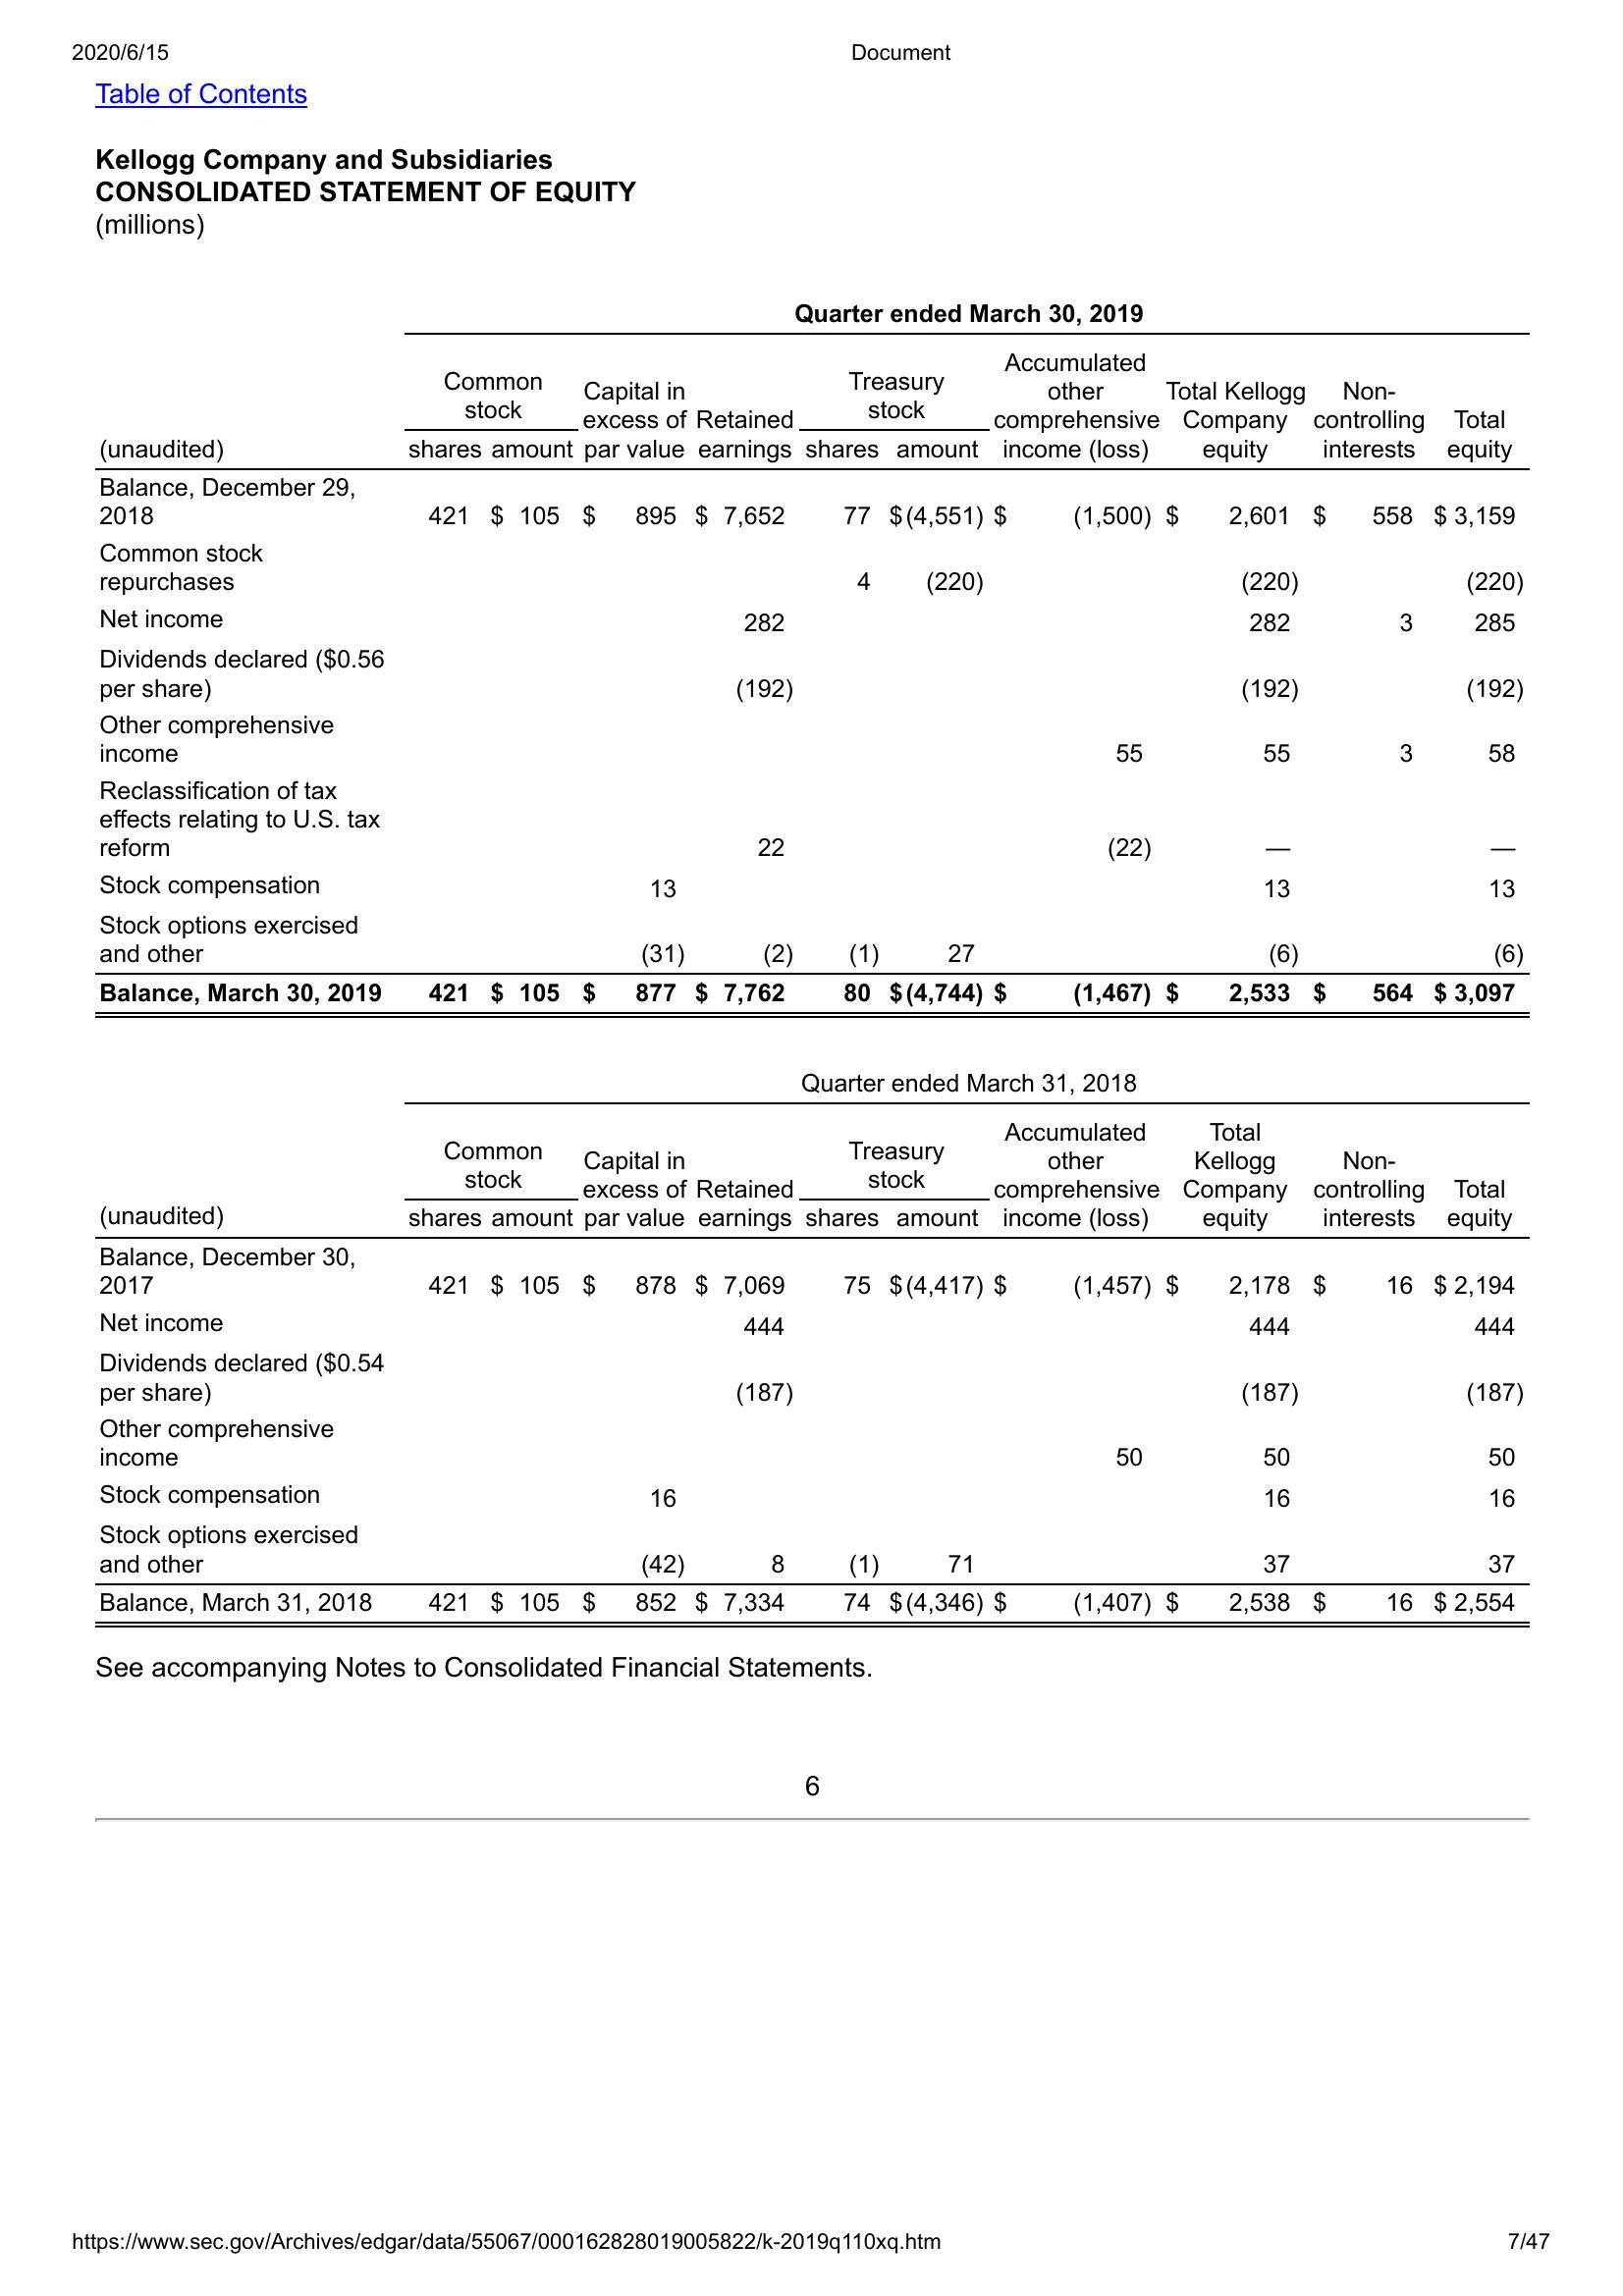table: (93, 295, 1544, 1016), (93, 1067, 1535, 1632)
